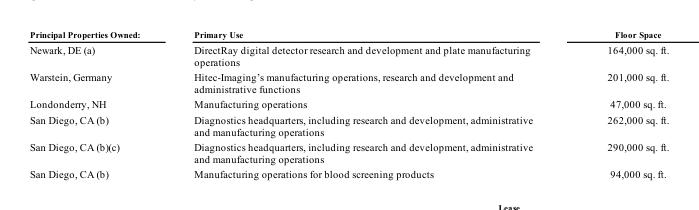table: (29, 29, 668, 179)
table column: (166, 29, 569, 179), (29, 29, 166, 179), (569, 29, 668, 179)
table column header: (29, 29, 668, 41)
table row: (29, 41, 668, 69), (29, 69, 668, 96), (29, 111, 668, 138), (29, 138, 668, 165), (29, 96, 668, 111), (29, 165, 668, 179), (29, 29, 668, 41)
